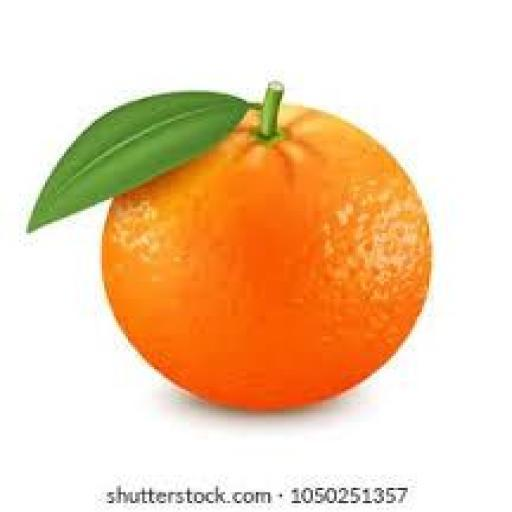orange: (102, 108, 431, 408)
